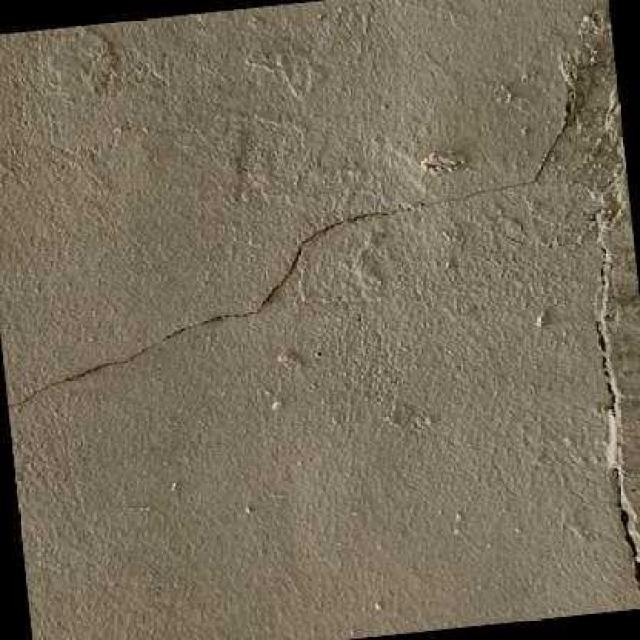D00: (7, 50, 614, 406), (591, 236, 640, 607)
